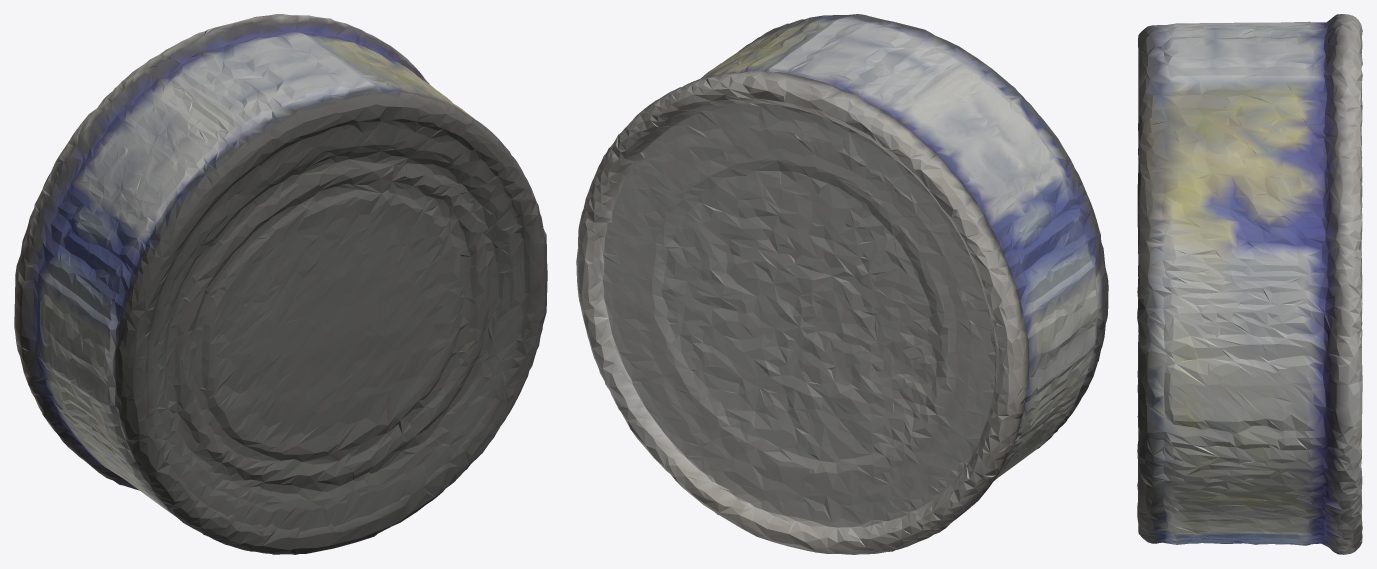
Rendered from tuna_can_1.glb.
The picture shows the model from 3 angles, left to right: view 1: azimuth 30°, elevation 25°; view 2: azimuth 150°, elevation 25°; view 3: azimuth 270°, elevation 25°; orthographic projection. The views are drawn at different scales.
Visible parts, largest first — view 1: geometry_0; view 2: geometry_0; view 3: geometry_0.
Part boxes in pixels (x1=…): geometry_0: x1=14, y1=14, x2=547, y2=554; geometry_0: x1=576, y1=14, x2=1108, y2=554; geometry_0: x1=1137, y1=14, x2=1362, y2=554.
Size of the model in its own units: 0.9998 by 1 by 0.4187.
